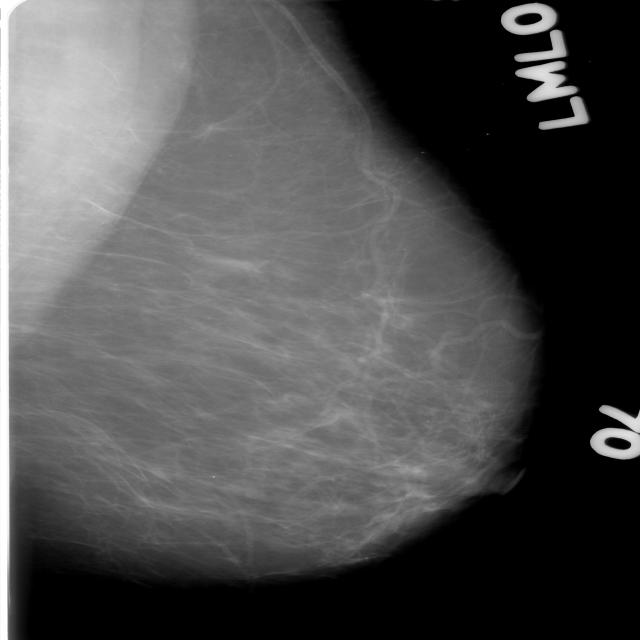normal: (0, 0, 536, 583)
